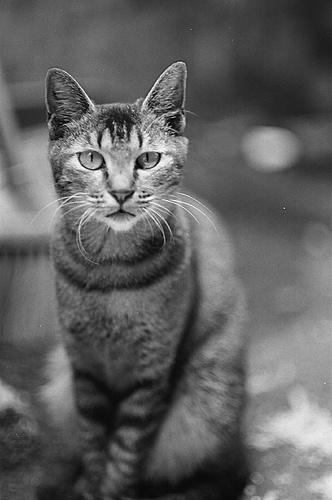cat: (41, 58, 250, 500)
